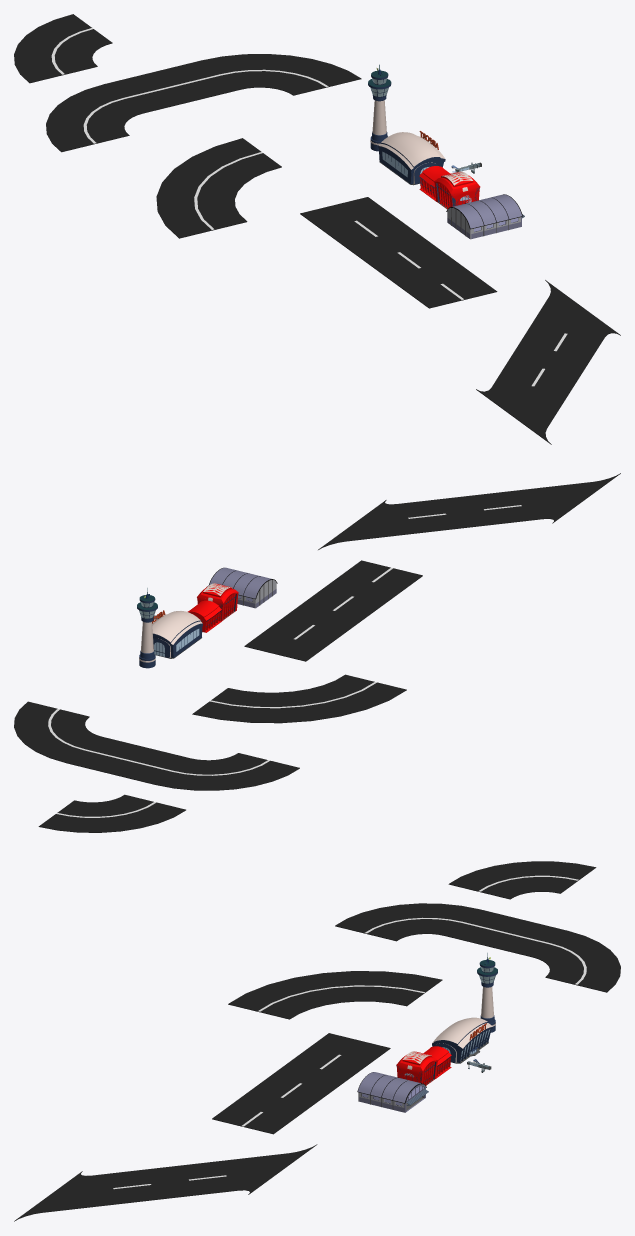
File: Airport_OutsideBuildingPack.fbx
The picture shows the model from 3 angles, top to bottom: view 1: azimuth 30°, elevation 25°; view 2: azimuth 150°, elevation 25°; view 3: azimuth 330°, elevation 25°; orthographic projection. The views are drawn at different scales.
Parts seen in each view (by area): view 1: LandingTrack2Curve, LandingTrack5StraightAngled, LandingTrack1Straight, LandingTrack3Curve2, LandingTrack4Curve3, 04.Hangar, 07.Modulo1, Cube.045, 02.ControlTower; view 2: LandingTrack2Curve, LandingTrack5StraightAngled, LandingTrack1Straight, LandingTrack3Curve2, LandingTrack4Curve3, 07.Modulo1, 04.Hangar, Cube.045, 02.ControlTower; view 3: LandingTrack2Curve, LandingTrack5StraightAngled, LandingTrack1Straight, LandingTrack3Curve2, LandingTrack4Curve3, 04.Hangar, 07.Modulo1, Cube.045, 02.ControlTower.
Part boxes in pixels (box(x1,y1,x2,y2)): LandingTrack2Curve: box(46, 54, 361, 152); LandingTrack5StraightAngled: box(476, 280, 620, 444); LandingTrack1Straight: box(300, 197, 497, 308); LandingTrack3Curve2: box(156, 138, 281, 238); LandingTrack4Curve3: box(14, 14, 112, 83); 04.Hangar: box(446, 194, 524, 239); 07.Modulo1: box(378, 131, 445, 185); Cube.045: box(419, 166, 480, 208); 02.ControlTower: box(368, 64, 391, 151); LandingTrack2Curve: box(14, 701, 299, 790); LandingTrack5StraightAngled: box(318, 473, 620, 549); LandingTrack1Straight: box(244, 560, 422, 661); LandingTrack3Curve2: box(192, 674, 406, 723); LandingTrack4Curve3: box(38, 794, 185, 832); 07.Modulo1: box(152, 610, 202, 658); 04.Hangar: box(206, 567, 277, 608); Cube.045: box(187, 583, 238, 632); 02.ControlTower: box(137, 588, 157, 668); LandingTrack2Curve: box(335, 903, 620, 992); LandingTrack5StraightAngled: box(14, 1144, 317, 1221); LandingTrack1Straight: box(212, 1033, 390, 1134); LandingTrack3Curve2: box(228, 971, 442, 1019); LandingTrack4Curve3: box(448, 861, 596, 899); 04.Hangar: box(357, 1072, 428, 1112); 07.Modulo1: box(432, 1017, 492, 1063); Cube.045: box(396, 1046, 451, 1085); 02.ControlTower: box(477, 953, 497, 1032).
Size of what is drawn, in the model's own units: 36113 by 10107 by 116756.
2 materials, 1 textured.
